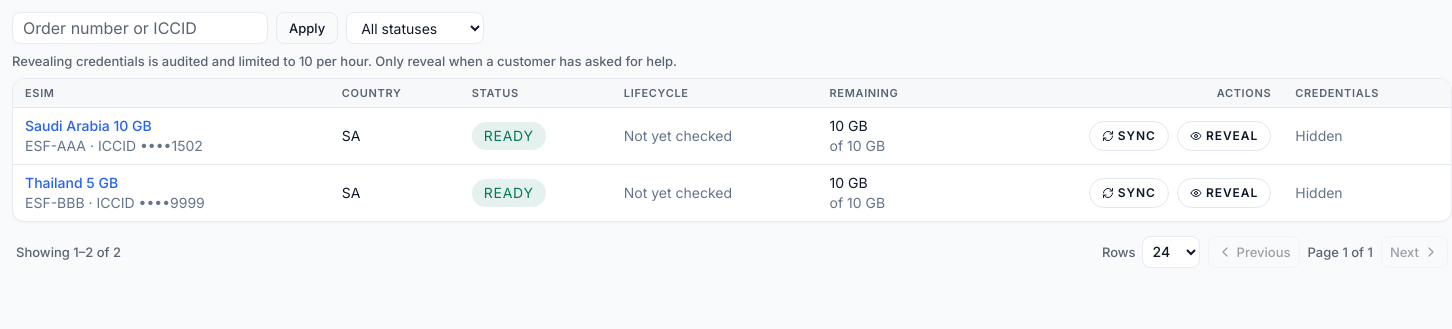
it: refusals explain themselves › says the role can't reveal, on 403
Expected: the 1st link "Saudi Arabia 10 GB" is shown, [25,116,152,134]
What coordinates should you click on to do the following:
click the 3rd button named "reveal"
I would click on:
 (1224, 136)
Its box is [1177,120,1271,150].
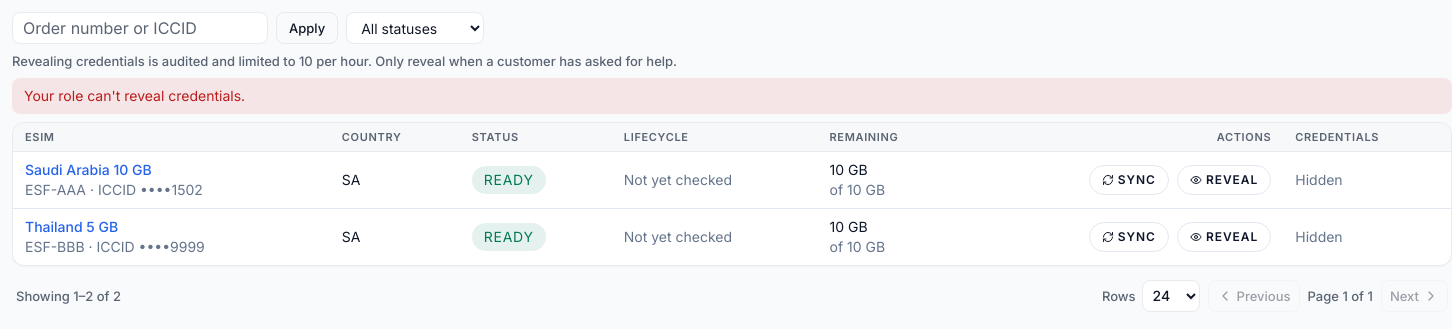
Now the message is shown, box [12,78,1451,114]
Now the text "your role can't reveal credentials" is shown, box [24,87,245,104]
